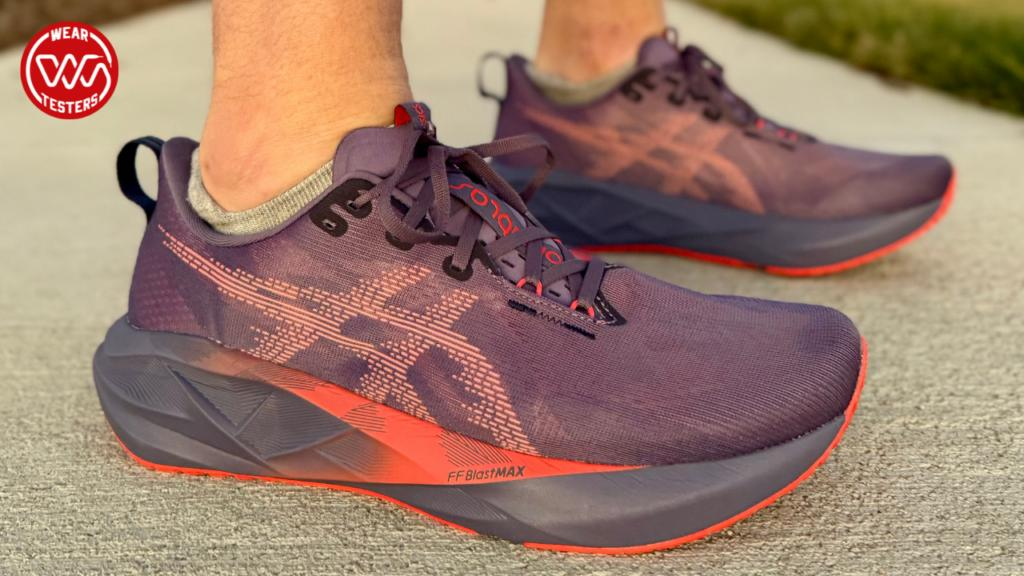asics logo: (162, 228, 561, 464), (526, 104, 782, 222)
